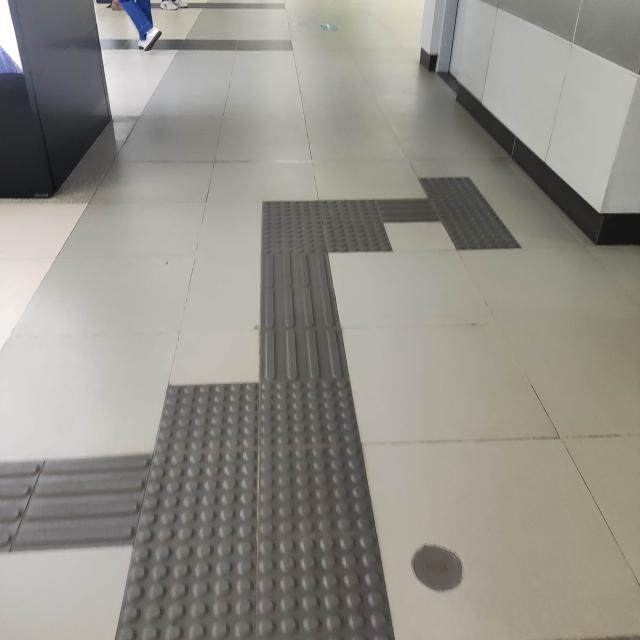kanan: (251, 177, 440, 270)
